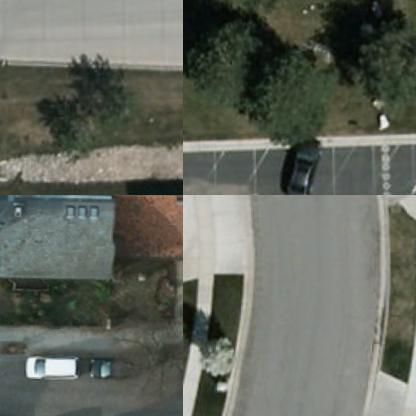car: (279, 133, 326, 194), (87, 350, 141, 381)
van: (21, 350, 79, 378)
